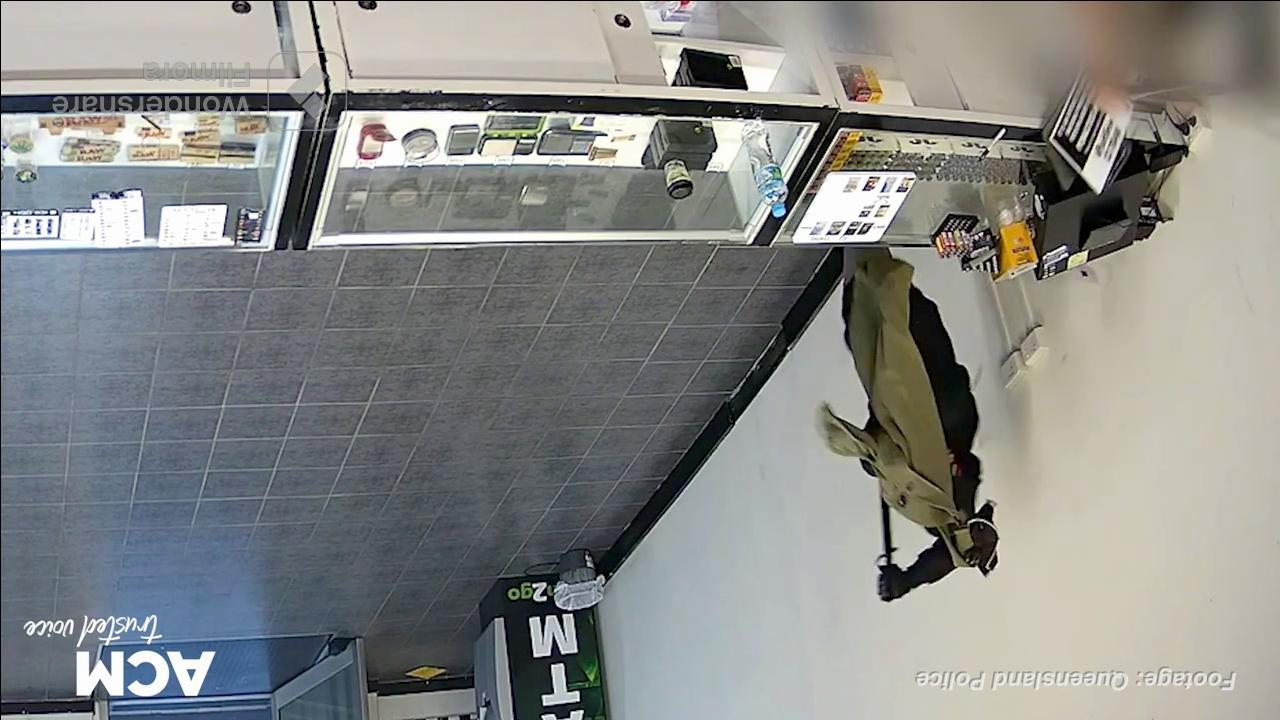melee: (868, 488, 898, 584)
